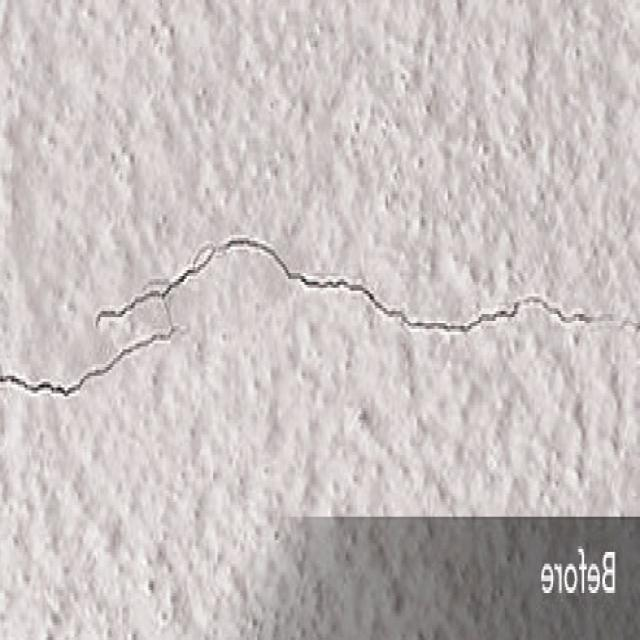crack: (1, 228, 640, 396)
